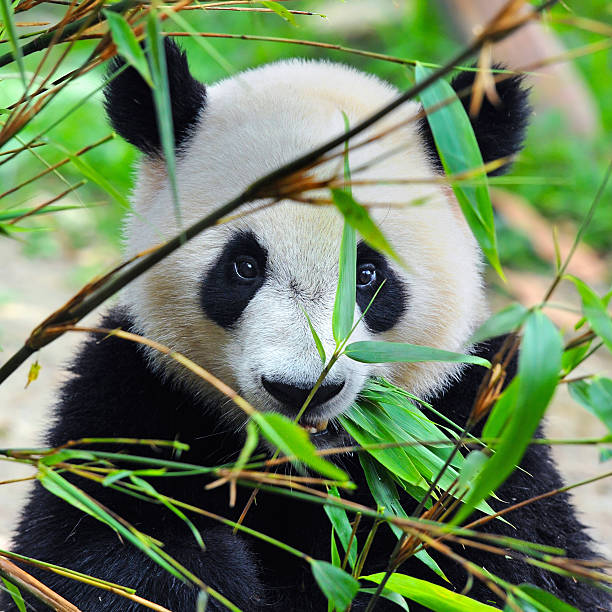panda: (67, 23, 568, 464)
